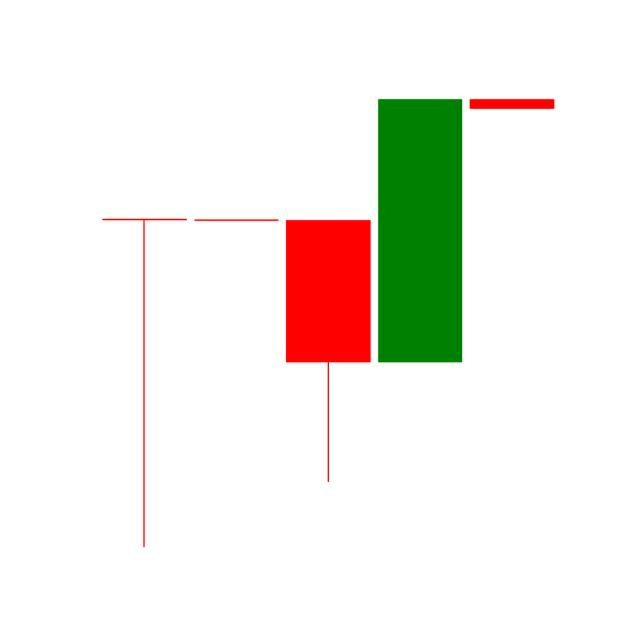Four price doji: (468, 97, 556, 111), (193, 218, 282, 223)
